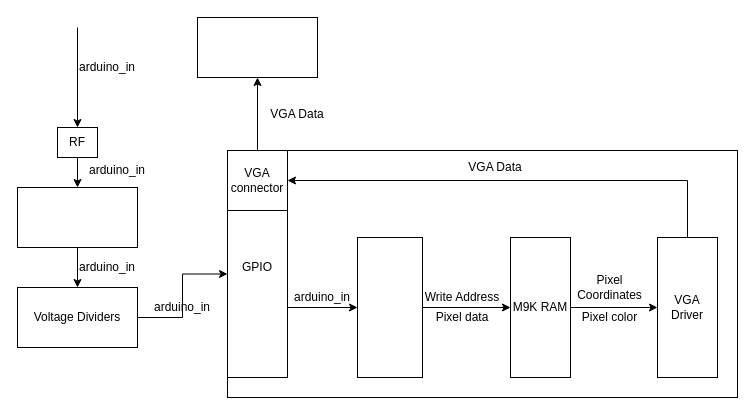
This 755x415 diagram has some shape labels left out. Here are the shapes that lost their labels. From the top down, the centre of each, then its label:
At (257,47): "Monitor".
At (77,217): "Base Station Arduino".
At (389,307): "Image Processor".
